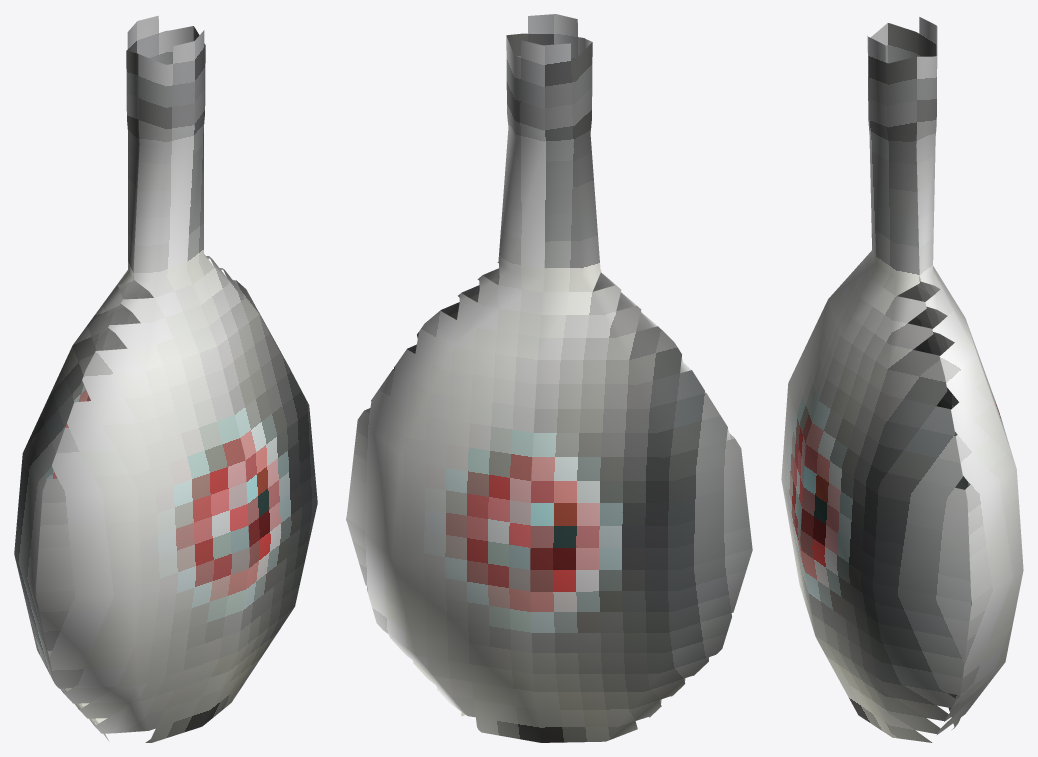
Rendered from NicotineOverdose.fbx.
3 renders of one model, left to right at view 1: azimuth 30°, elevation 25°; view 2: azimuth 150°, elevation 25°; view 3: azimuth 270°, elevation 25°, orthographic. The views are drawn at different scales.
Visible parts, largest first — view 1: Item_NicotineOverdose; view 2: Item_NicotineOverdose; view 3: Item_NicotineOverdose.
Part boxes in pixels (x1,y1,x2,y2): Item_NicotineOverdose: [14, 15, 317, 742]; Item_NicotineOverdose: [346, 14, 752, 742]; Item_NicotineOverdose: [781, 17, 1023, 742].
Bounding box in the file's own units: 0.2986 × 0.589 × 0.1908.
Materials: 1 (1 with a texture image).
